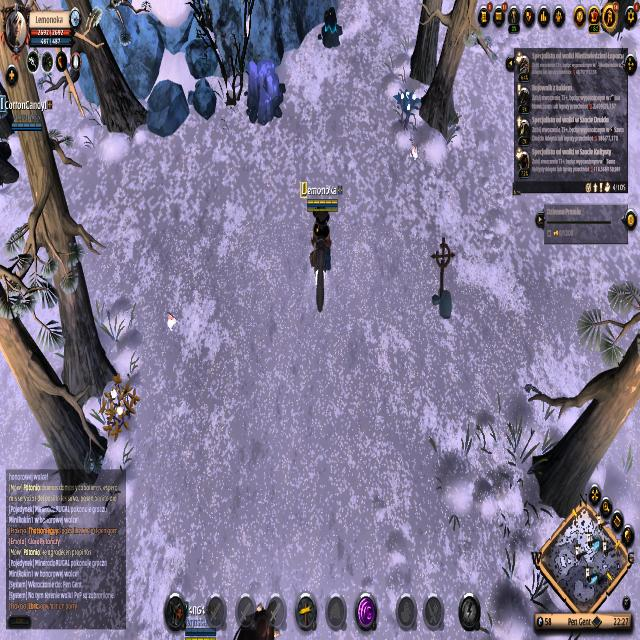fiber tier 2: (99, 370, 141, 440)
fiber tier 4: (394, 86, 422, 132)
ore tier 2: (318, 5, 344, 50)
rock tier 4: (244, 54, 286, 128)
